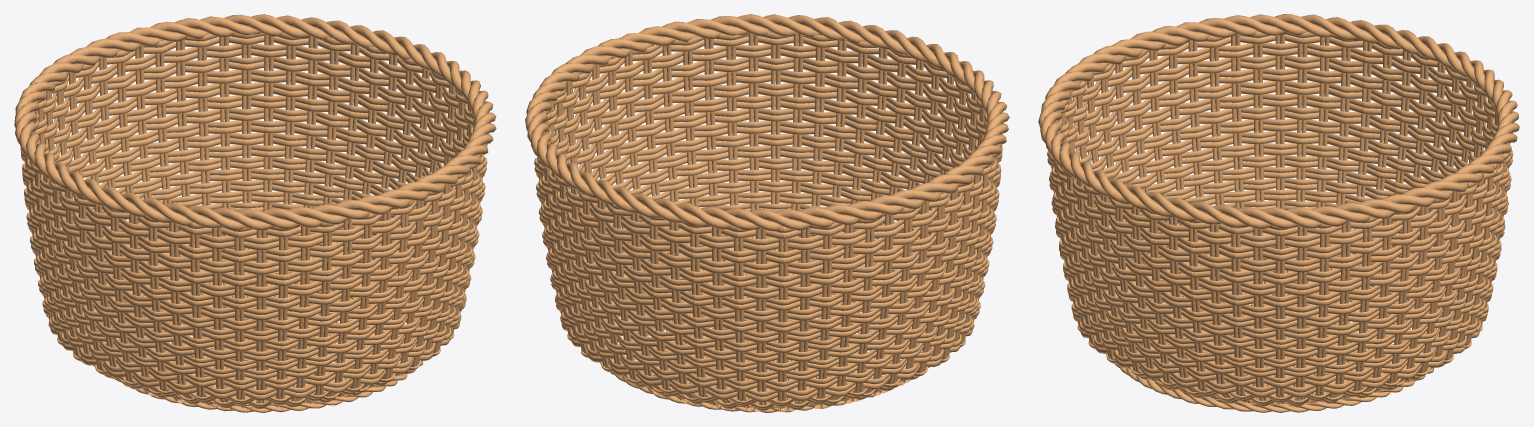
The model's file is cestino.fbx.
The picture shows the model from 3 angles, left to right: view 1: azimuth 30°, elevation 25°; view 2: azimuth 150°, elevation 25°; view 3: azimuth 270°, elevation 25°; orthographic projection.
Visible parts, largest first — view 1: Rattan basket; view 2: Rattan basket; view 3: Rattan basket.
Part boxes in pixels (x1,y1,x2,y2): Rattan basket: (14, 14, 496, 412); Rattan basket: (525, 14, 1009, 412); Rattan basket: (1038, 14, 1519, 412).
Size of the model in its own units: 27.35 by 14.33 by 27.37.
